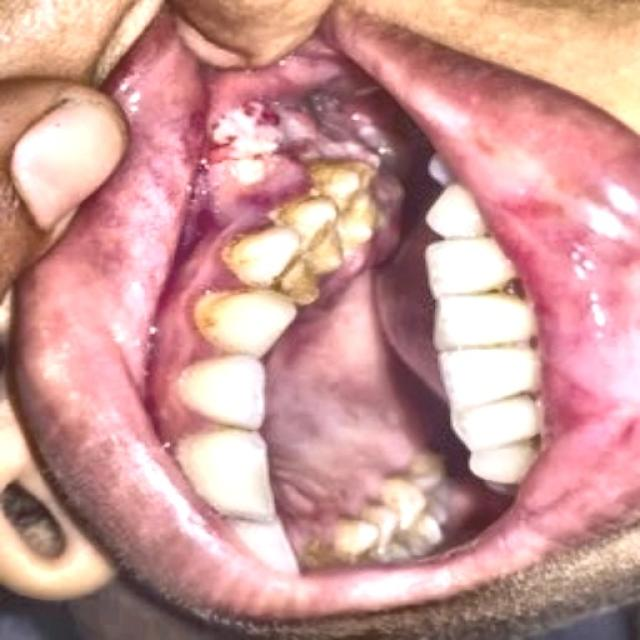leukoplakia-detection: (207, 77, 350, 225)
processing_area: (149, 26, 381, 440)
